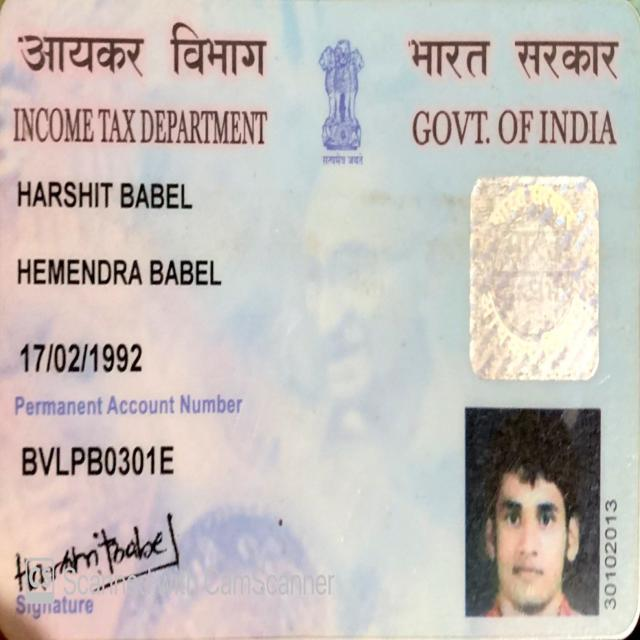pan_card: (0, 3, 638, 633)
